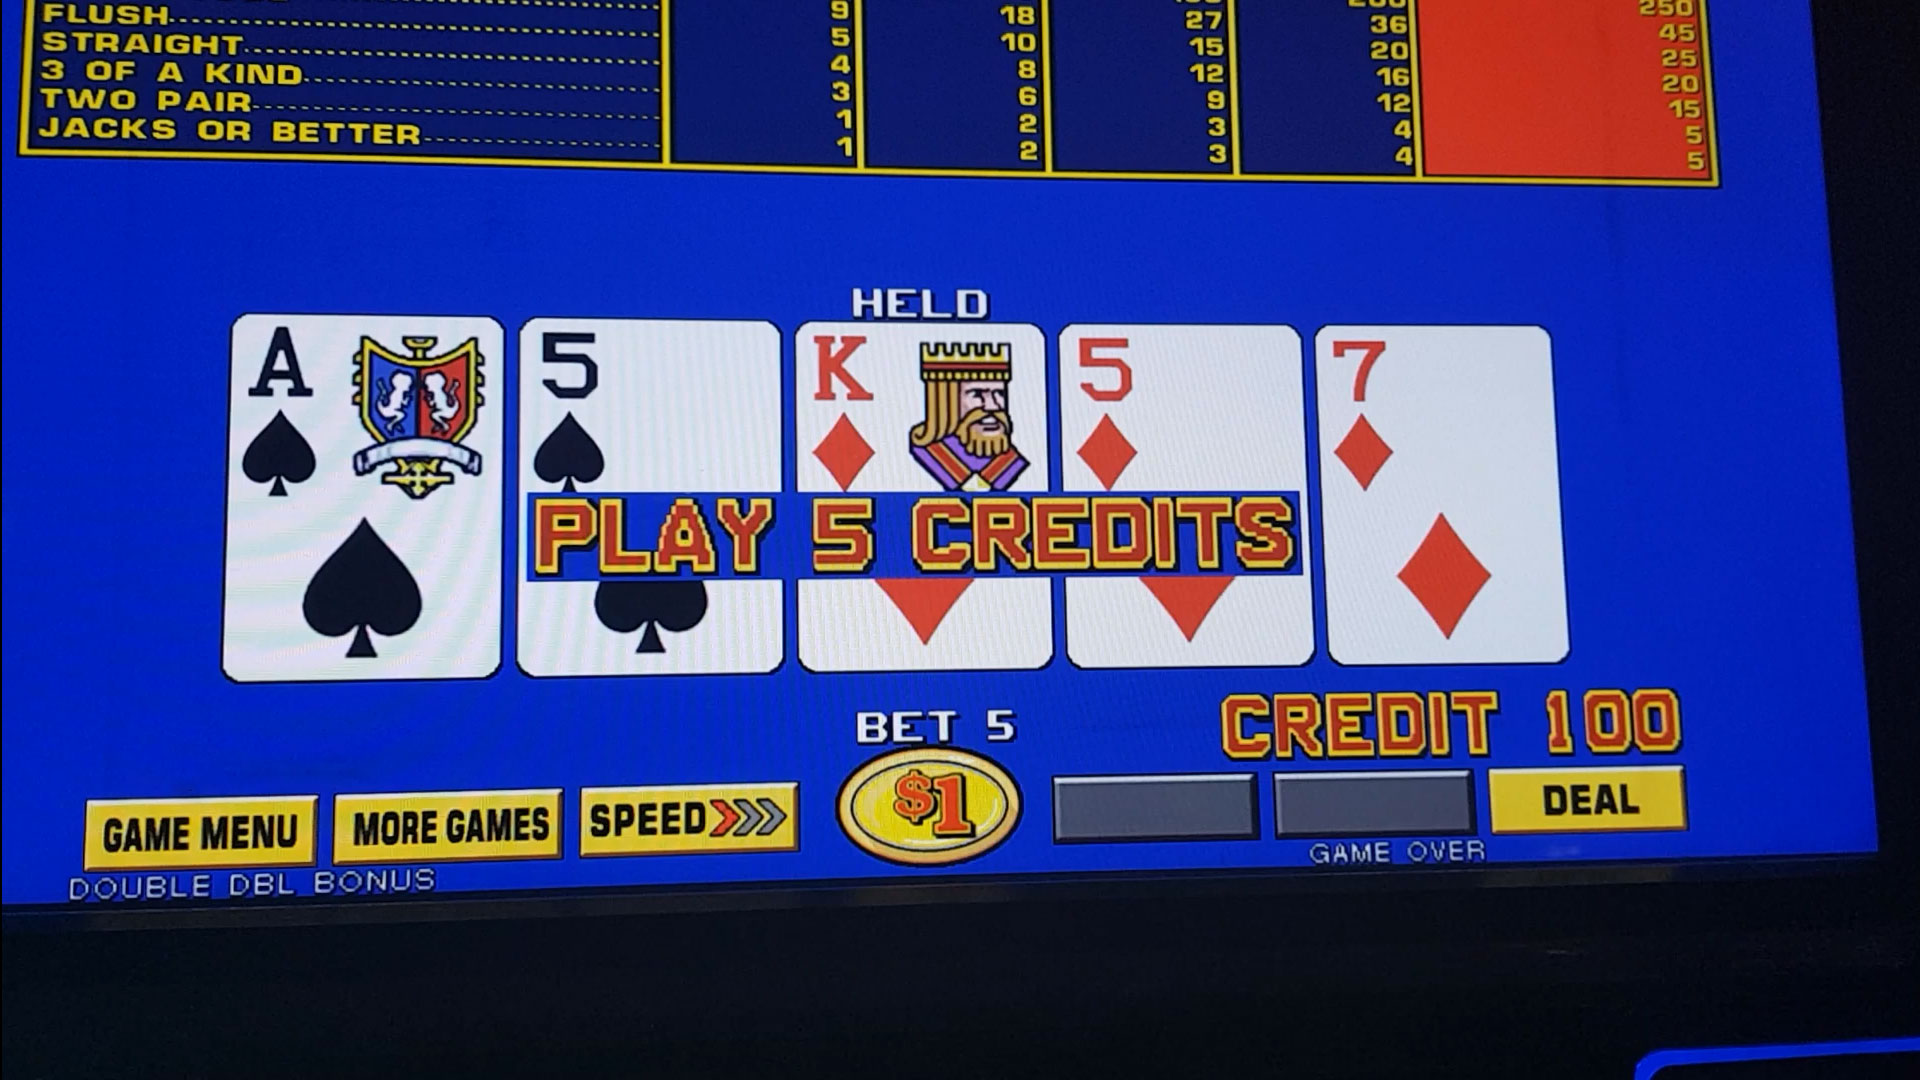D5: (1062, 330, 1300, 488)
D7: (1320, 328, 1545, 501)
DK: (796, 328, 1040, 485)
S5: (524, 324, 779, 487)
SA: (233, 320, 498, 496)
